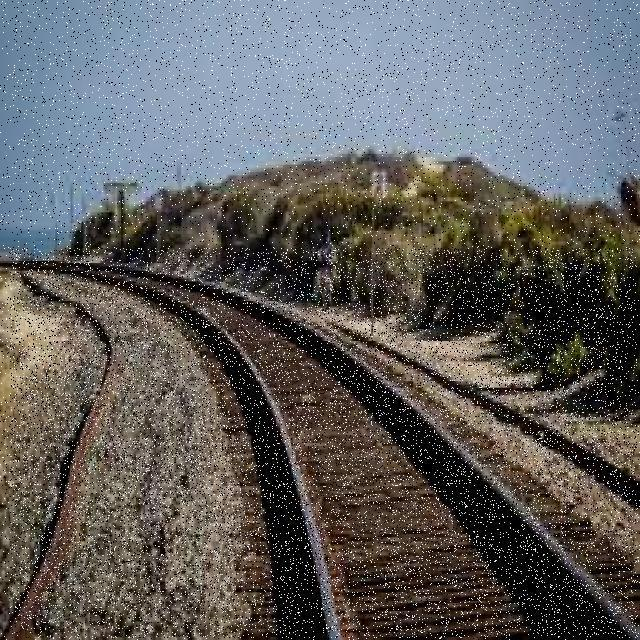rail: (12, 249, 638, 639)
